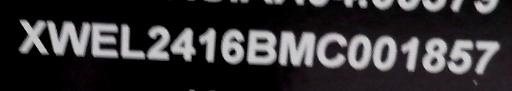letter: (45, 16, 91, 59), (276, 27, 318, 68), (244, 25, 278, 66), (16, 17, 50, 56), (314, 31, 348, 70), (88, 19, 120, 60), (444, 35, 474, 76), (168, 24, 198, 63), (370, 32, 398, 73), (120, 22, 148, 61), (420, 35, 448, 74), (473, 39, 501, 78), (346, 31, 372, 72), (144, 24, 172, 61), (220, 26, 244, 65), (196, 25, 218, 64), (397, 35, 419, 74)
